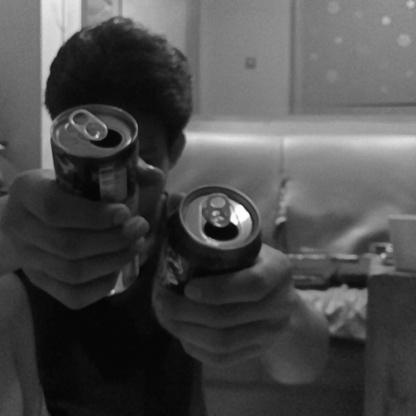alumunium_can: (44, 98, 141, 292), (153, 184, 264, 300)
